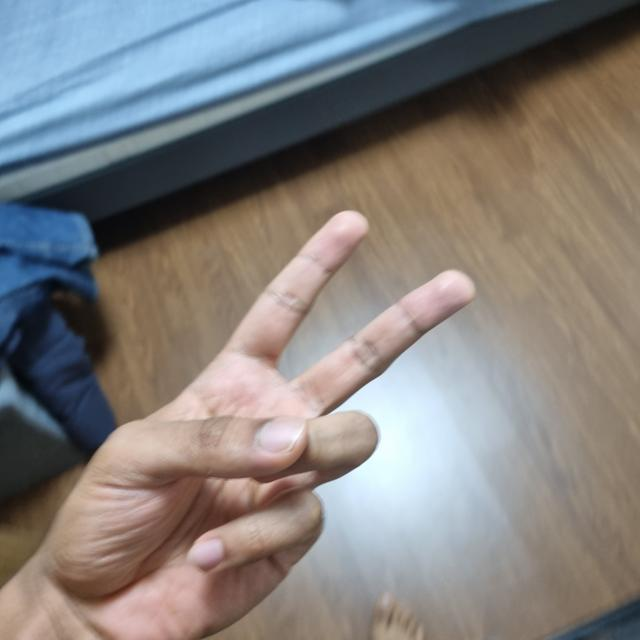Scissors: (48, 215, 464, 639)
